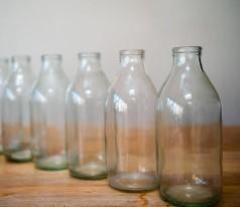glass: (0, 46, 223, 207)
